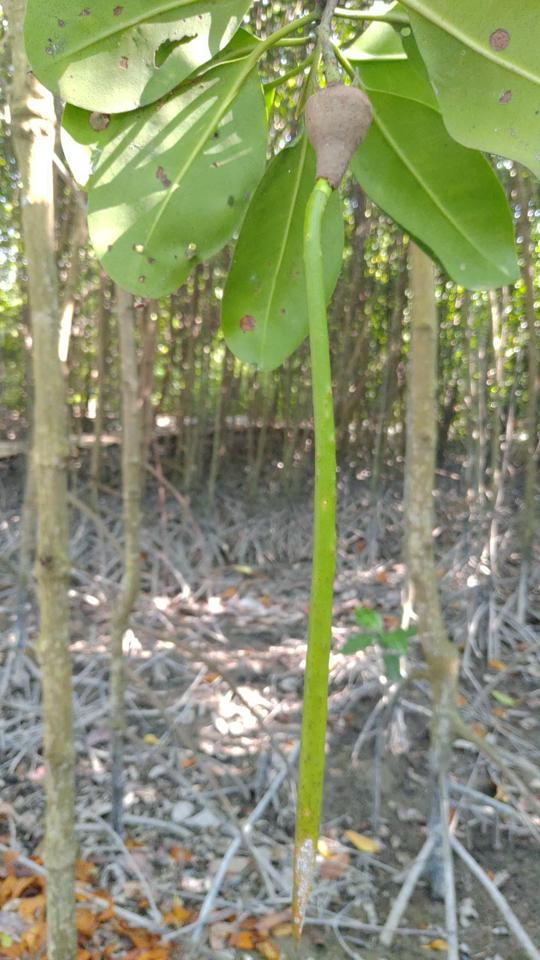setengah matang: (280, 66, 384, 952)
